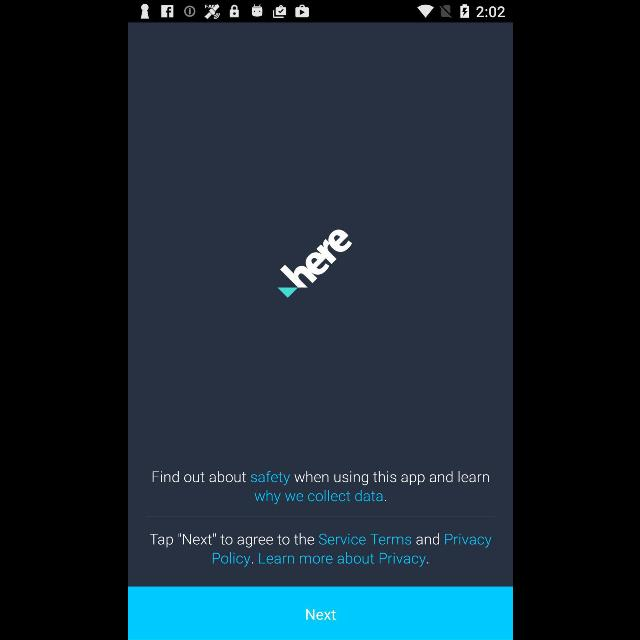image: (276, 230, 352, 298)
text: (152, 470, 488, 506), (148, 533, 492, 567)
textbutton: (128, 586, 512, 640)
uppertaskbar: (128, 1, 512, 23)
